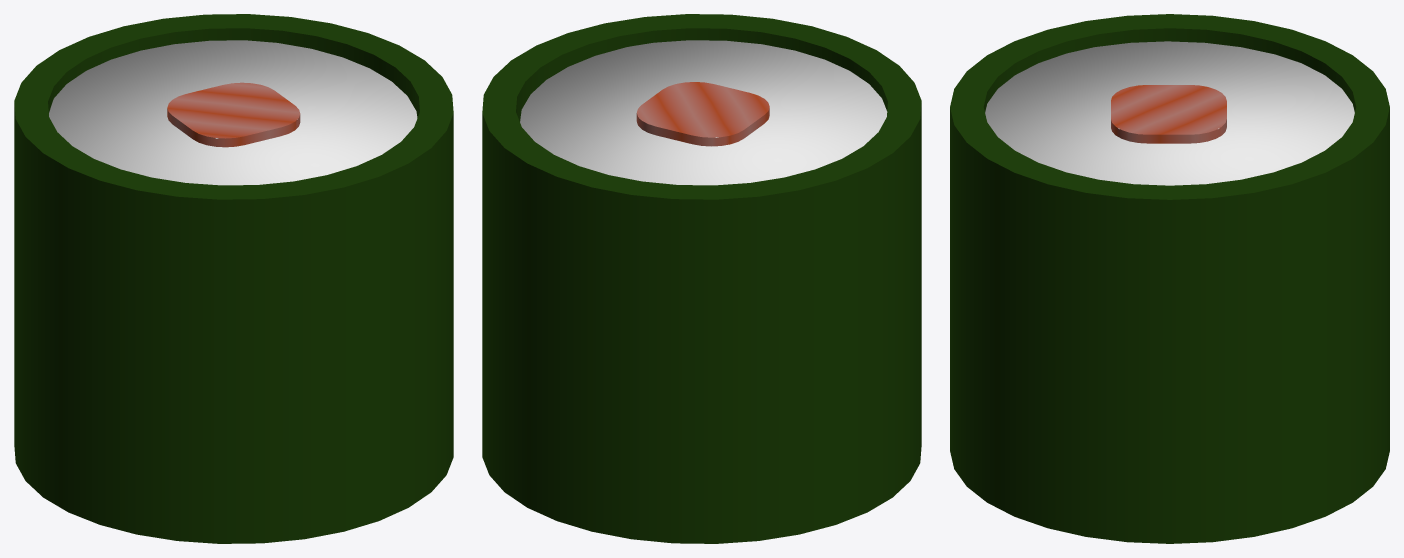
File: SushiRound.fbx
The picture shows the model from 3 angles, left to right: view 1: azimuth 30°, elevation 25°; view 2: azimuth 150°, elevation 25°; view 3: azimuth 270°, elevation 25°; orthographic projection.
Visible parts, largest first — view 1: Circle.001, Cylinder, Cube.002; view 2: Circle.001, Cylinder, Cube.002; view 3: Circle.001, Cylinder, Cube.002.
Boxes of the visible parts, <box> form: Circle.001: <box>14,14,453,543</box>; Cylinder: <box>49,40,417,185</box>; Cube.002: <box>167,82,300,147</box>; Circle.001: <box>482,14,921,543</box>; Cylinder: <box>520,40,887,185</box>; Cube.002: <box>636,82,769,146</box>; Circle.001: <box>950,14,1389,543</box>; Cylinder: <box>985,41,1354,185</box>; Cube.002: <box>1111,85,1226,143</box>.
Size of the model in its own units: 186 by 160 by 186.
